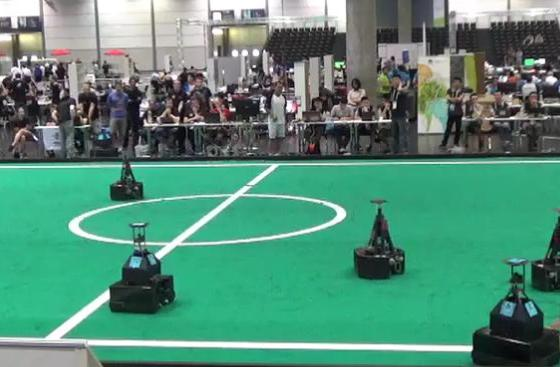robot: (469, 256, 558, 367), (108, 220, 179, 315), (351, 197, 409, 281), (106, 148, 149, 203)
